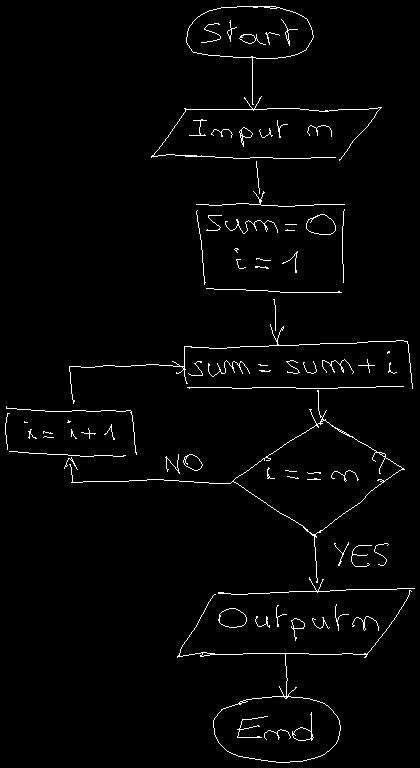arrow: (69, 361, 185, 403), (64, 457, 231, 483), (244, 56, 261, 110), (309, 535, 323, 592), (279, 654, 296, 698), (309, 390, 326, 427), (270, 299, 283, 344), (253, 161, 264, 203)
data: (177, 588, 414, 657), (151, 107, 381, 160)
decision: (231, 419, 404, 537)
process: (196, 203, 344, 292), (184, 340, 412, 388), (5, 406, 136, 456)
terminator: (213, 696, 340, 762), (186, 6, 313, 58)
text: (206, 214, 335, 272), (218, 604, 378, 640), (188, 351, 396, 376), (189, 119, 331, 146), (264, 452, 385, 482), (201, 19, 297, 45), (237, 712, 313, 740), (24, 420, 114, 439), (334, 542, 388, 566), (165, 454, 202, 473)
